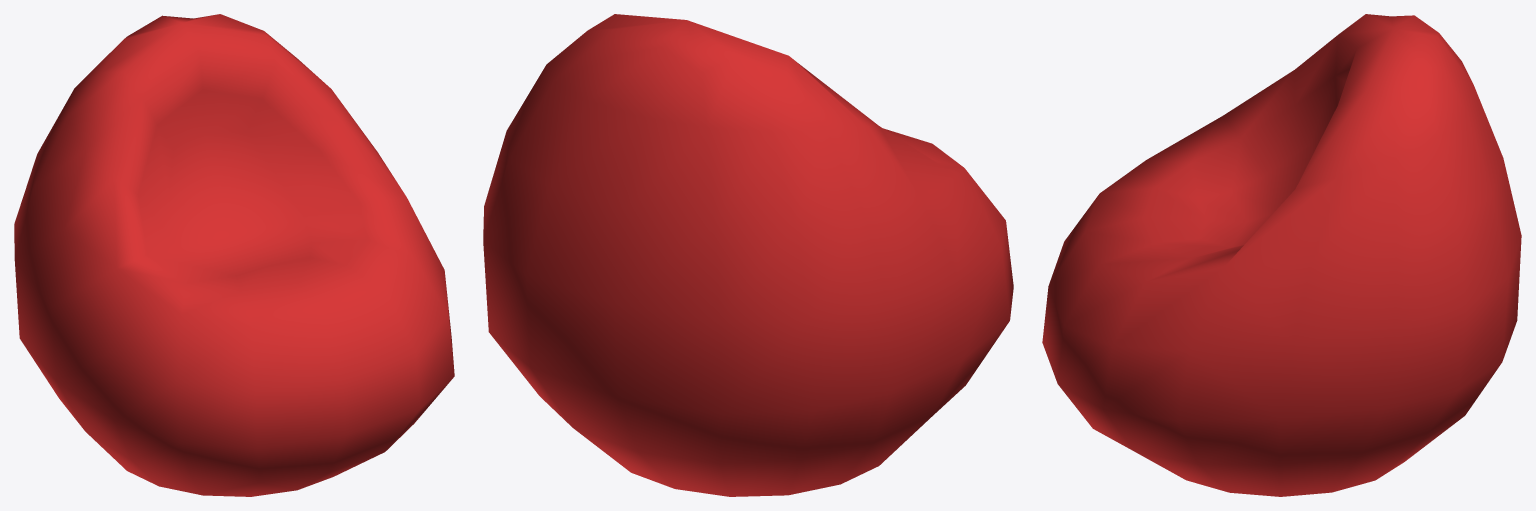
The model's file is chair_010.fbx.
3 renders of one model, left to right at view 1: azimuth 30°, elevation 25°; view 2: azimuth 150°, elevation 25°; view 3: azimuth 270°, elevation 25°, orthographic. The views are drawn at different scales.
Parts seen in each view (by area): view 1: chair_010; view 2: chair_010; view 3: chair_010.
Part boxes in pixels (left/top/right/bottom): chair_010: left=14, top=14, right=454, bottom=496; chair_010: left=483, top=14, right=1013, bottom=496; chair_010: left=1042, top=14, right=1521, bottom=496.
Size of the model in its own units: 104 by 113 by 107.
